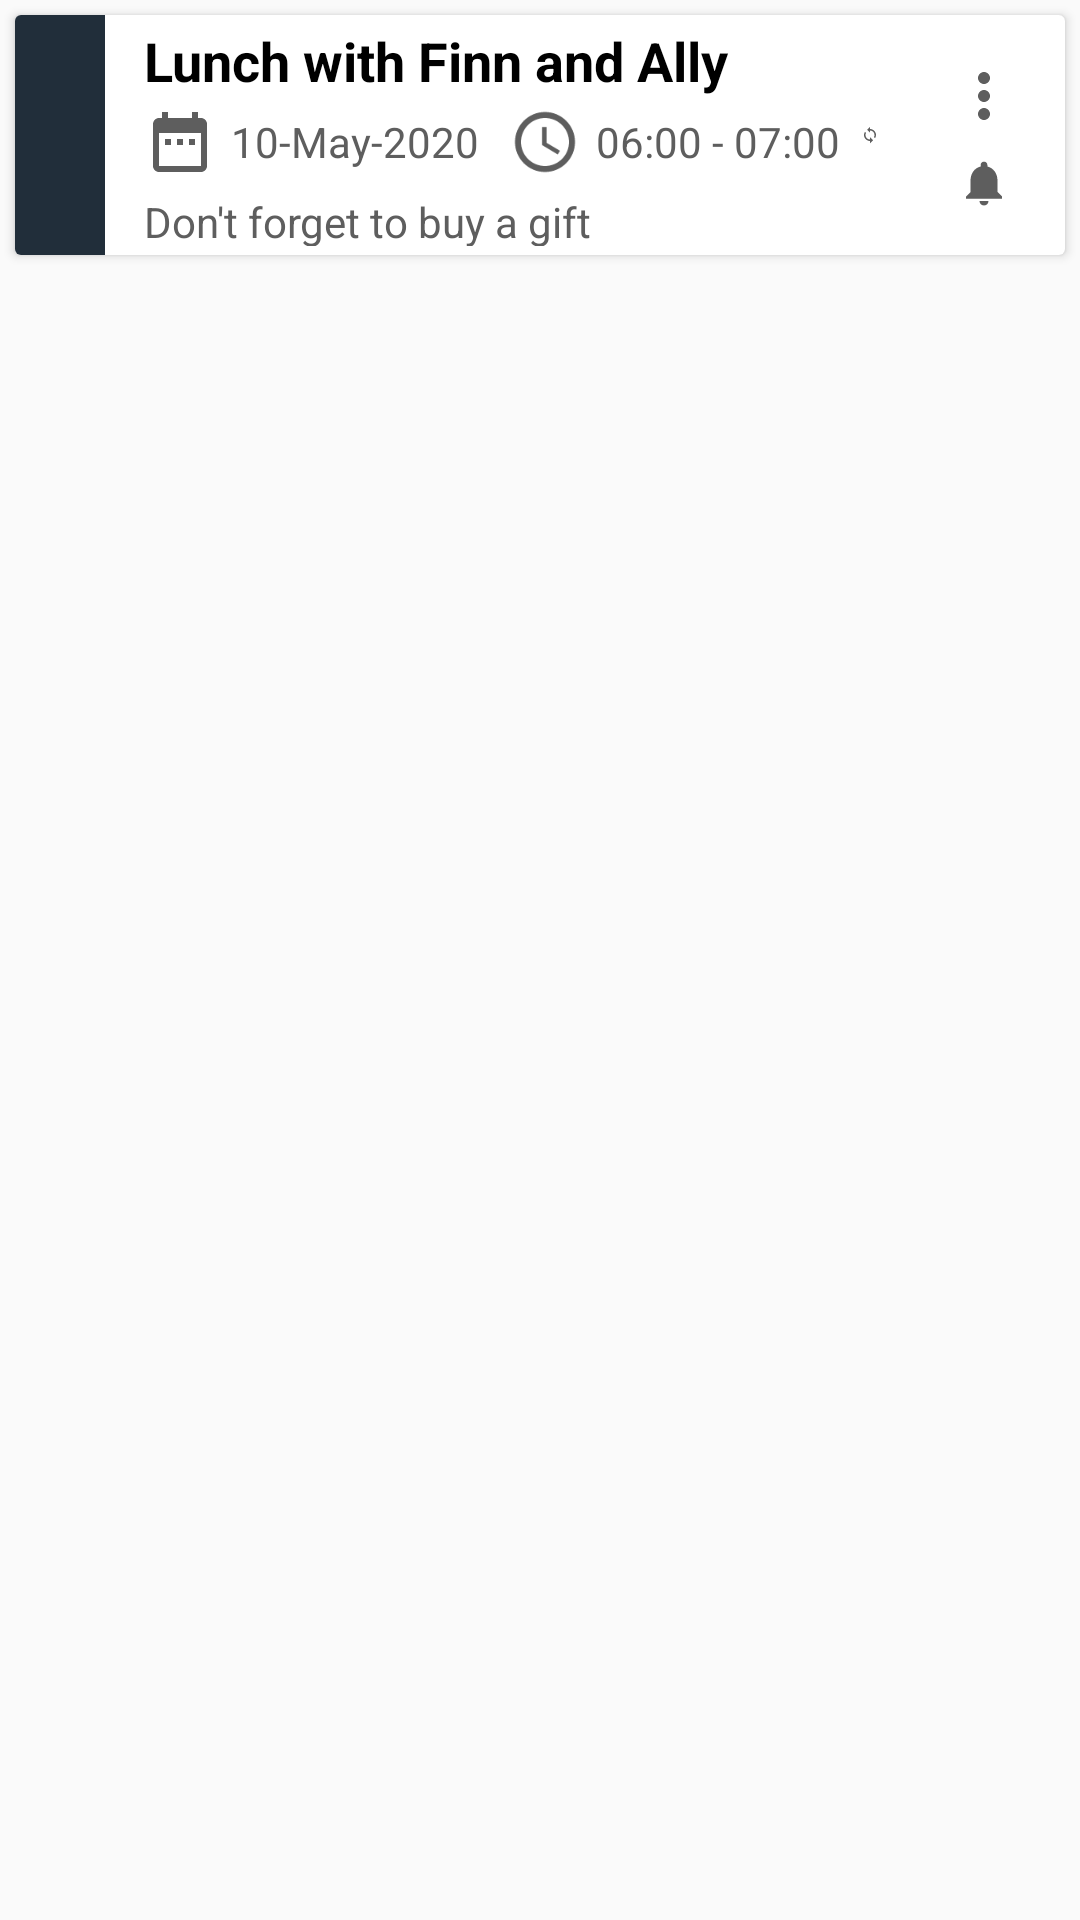

Where icons sit on this 1080px×1920px app screen, as (x1, y1, x2, y2):
access time: (514, 111, 576, 173)
date range: (153, 112, 207, 172)
more: (978, 72, 990, 120)
notification: (966, 161, 1002, 206)
